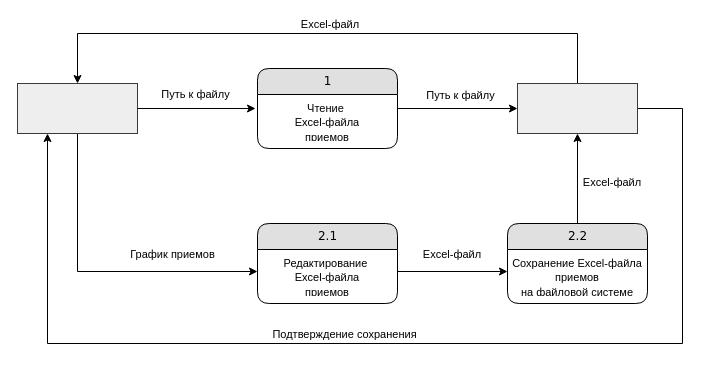
The diagram is 708 pixels wide and 369 high, and some of its shapes have lost their labels. Each missing label, with the centre of its shape:
"Доктор" goes at point (77, 108).
"Файловая система" goes at point (577, 108).
